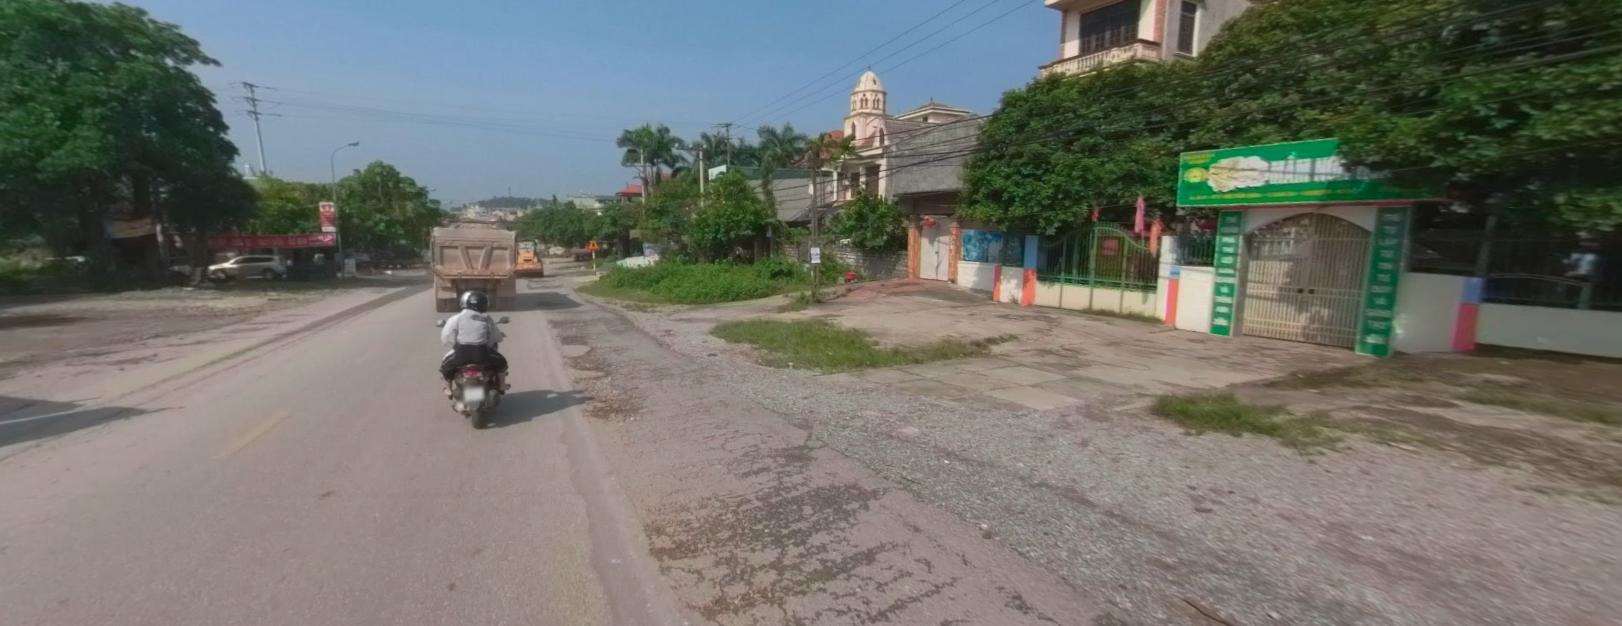Nguy hiem: (585, 238, 597, 249)
